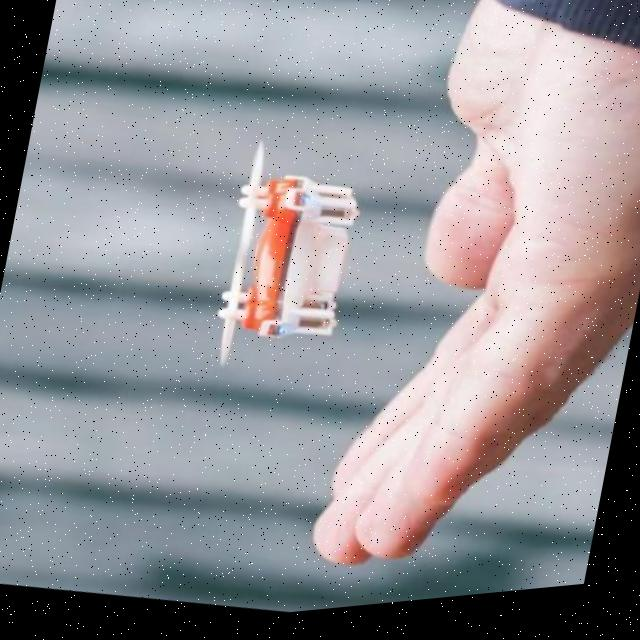drones: (98, 111, 476, 493)
